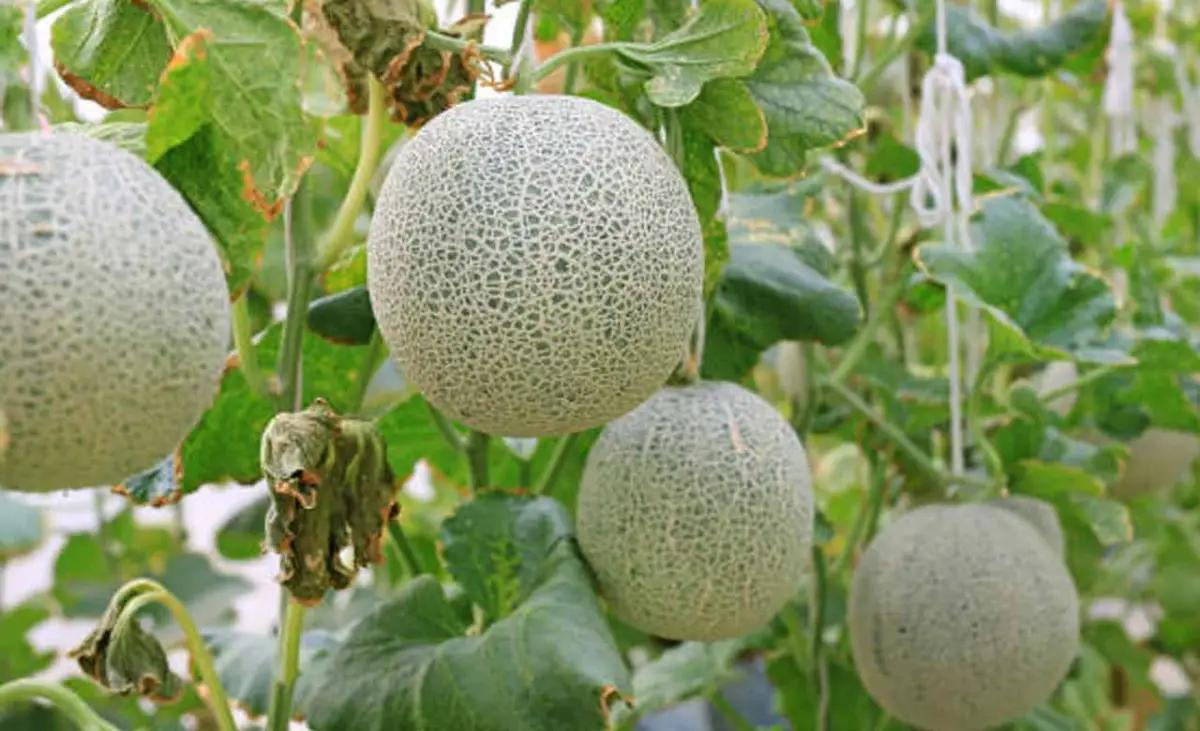Melon Ripe: (363, 95, 697, 457), (0, 128, 227, 497), (849, 489, 1085, 731), (589, 387, 810, 634)
